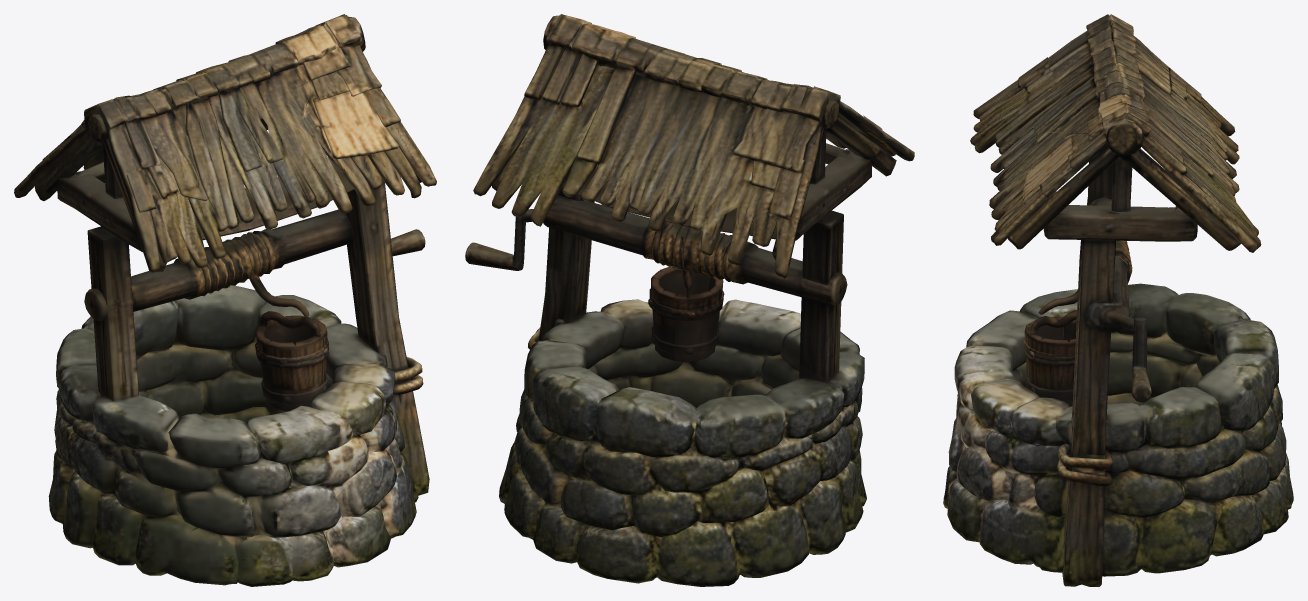
Rendered from act1_kit_v1_village_well.glb.
3 renders of one model, left to right at view 1: azimuth 30°, elevation 25°; view 2: azimuth 150°, elevation 25°; view 3: azimuth 270°, elevation 25°, orthographic. The views are drawn at different scales.
Visible parts, largest first — view 1: act1_kit_v1_village_well; view 2: act1_kit_v1_village_well; view 3: act1_kit_v1_village_well.
Boxes of the visible parts, bbox=[...] form: act1_kit_v1_village_well: bbox=[14, 14, 436, 586]; act1_kit_v1_village_well: bbox=[465, 14, 914, 586]; act1_kit_v1_village_well: bbox=[943, 14, 1293, 586].
Bounding box in the file's own units: 0.8038 × 1 × 0.7039.
1 material, 1 textured.
